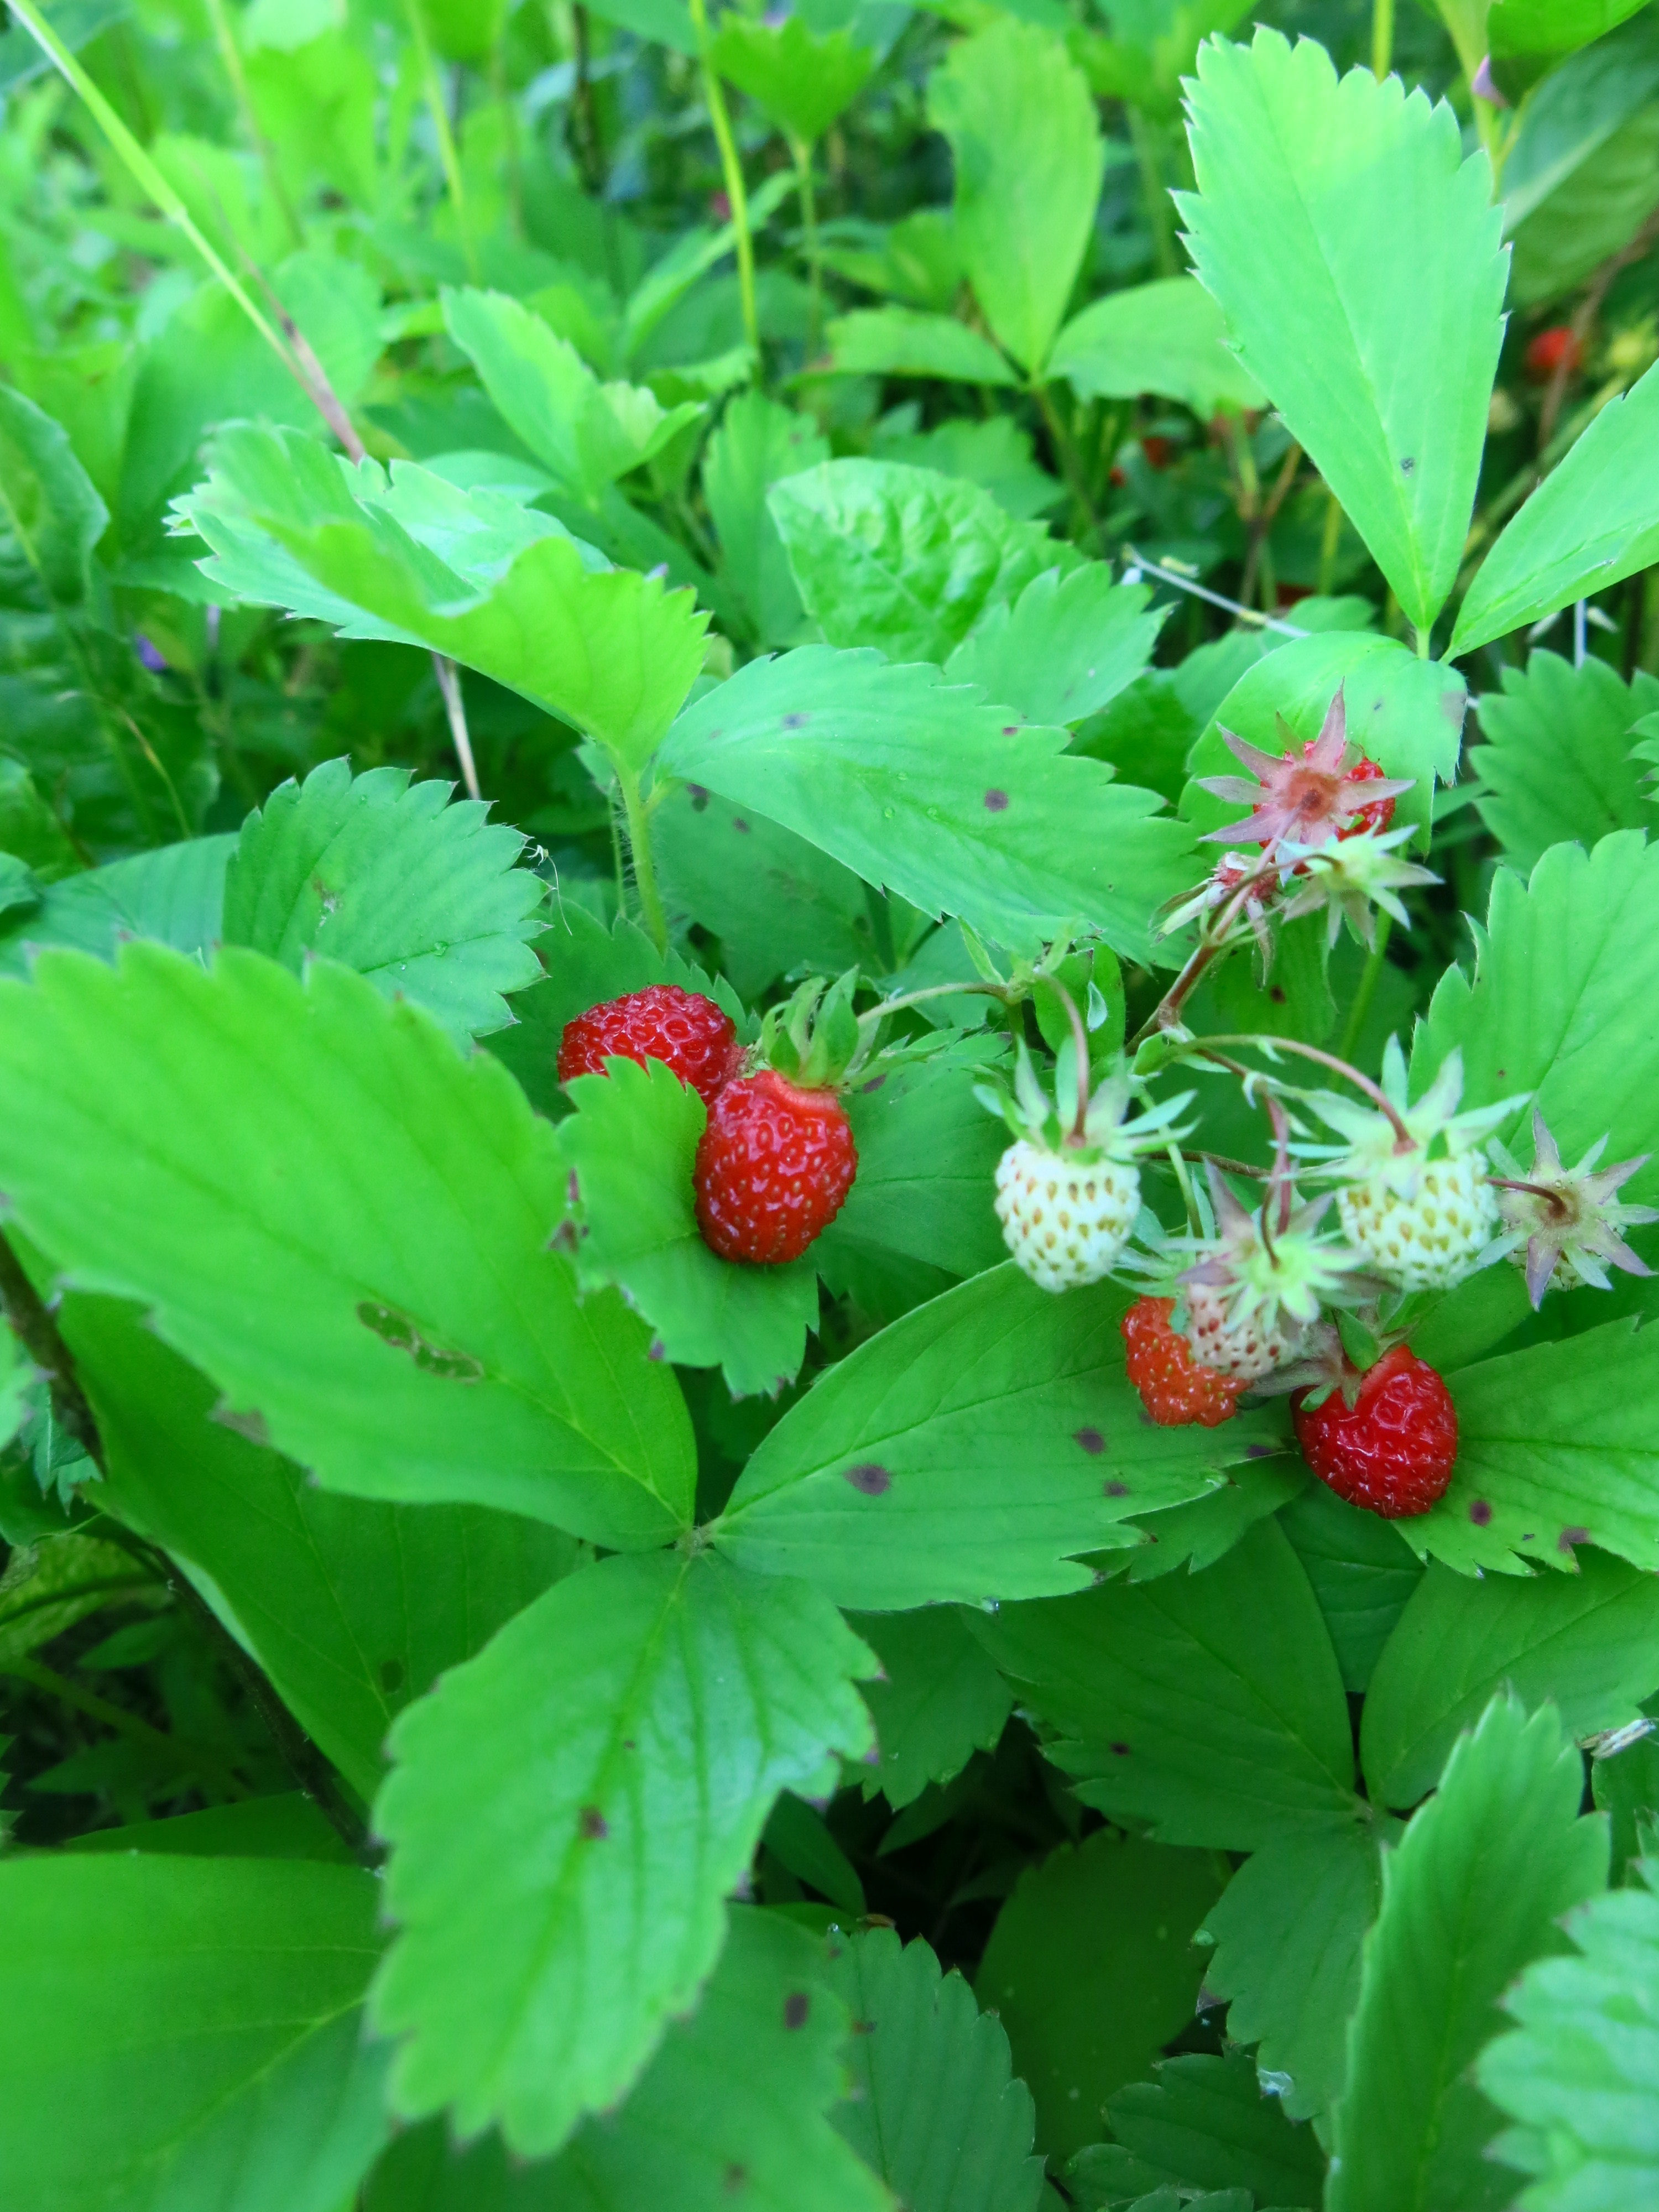ripe_strawberry: (685, 1031, 866, 1271), (1297, 1324, 1469, 1519), (547, 972, 753, 1113), (1244, 726, 1403, 869), (1124, 1291, 1244, 1426)
unripe_strawberry: (978, 1080, 1150, 1298), (1319, 1099, 1495, 1298), (1190, 1226, 1328, 1383)
